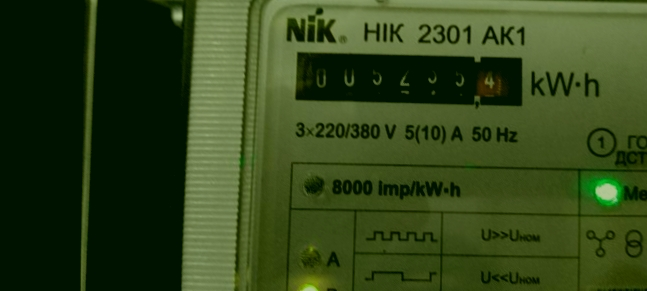0: (312, 63, 329, 89), (341, 61, 356, 87)
2: (396, 61, 411, 86)
3: (424, 59, 439, 84)
4: (481, 64, 497, 90)
5: (451, 61, 467, 88), (368, 61, 384, 87)
screen: (285, 42, 534, 113)
